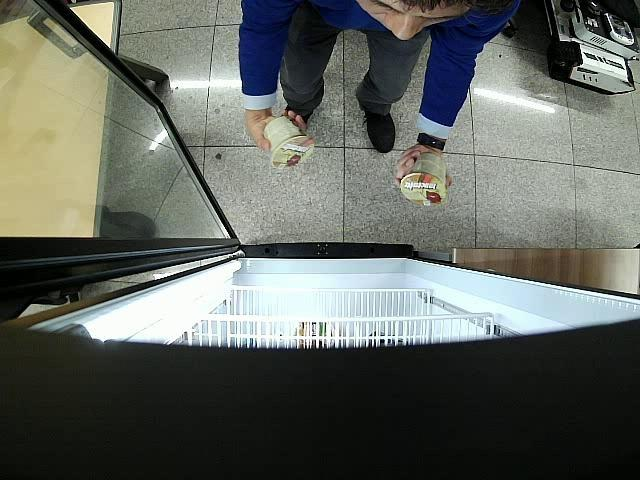04_chapagetti_S: (263, 116, 315, 170), (400, 152, 449, 207)
